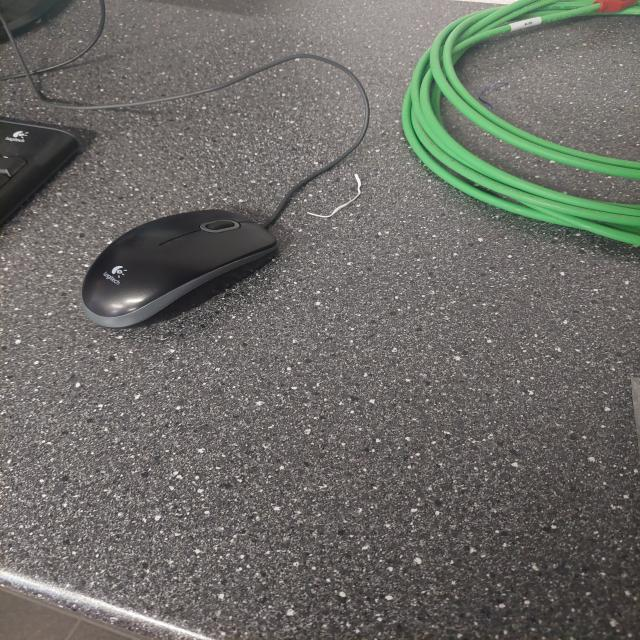mysz: (36, 181, 330, 342)
